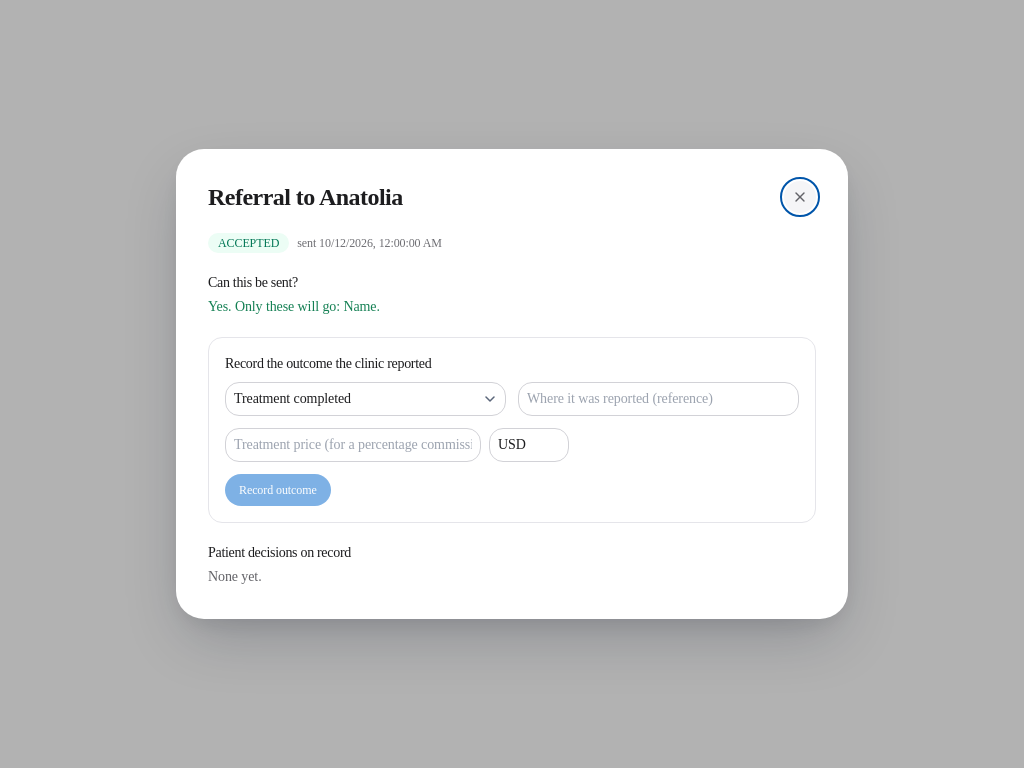
Test: Referral outcome › says what is still needed when a percentage commission has no price yet
Type "Clinic email" into the field named "Where the clinic reported it" at (658, 399), box 518,382 -> 799,416
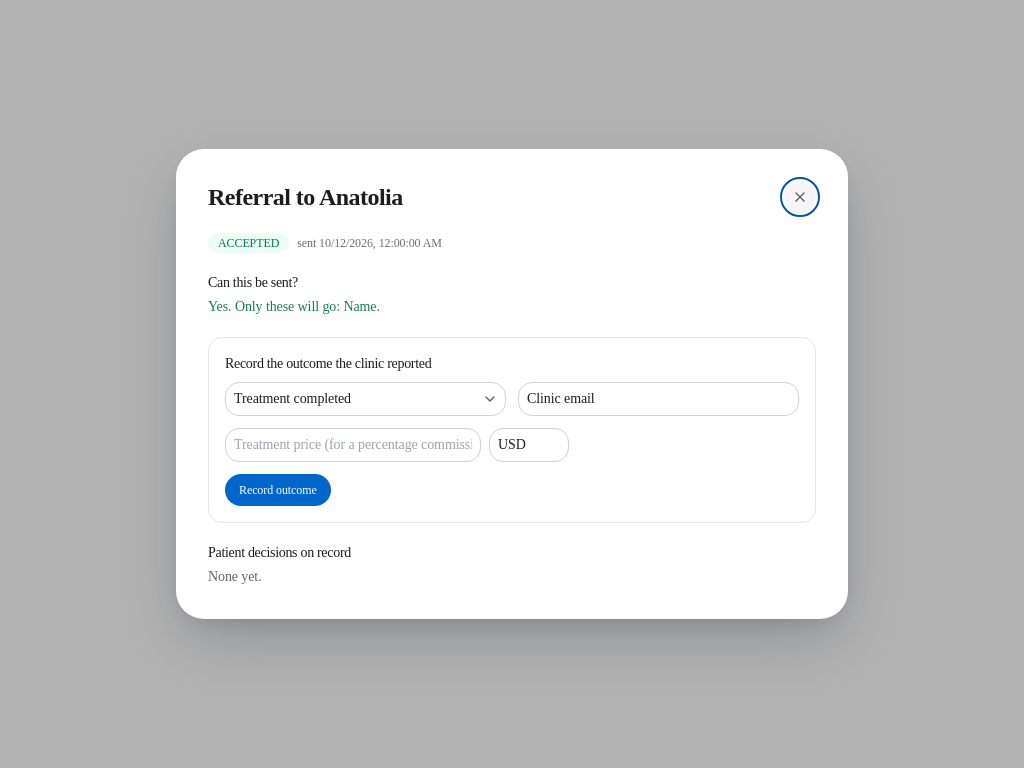
Click the button "Record outcome" at (278, 490), box 225,474 -> 331,506
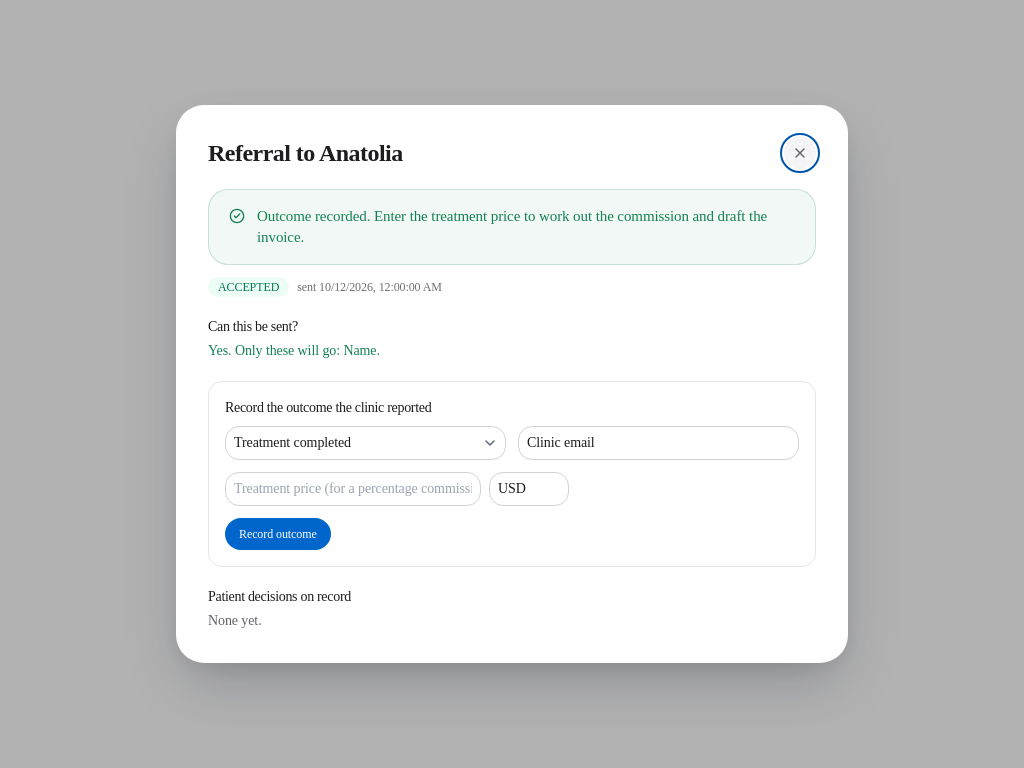
Expected: the text "Enter the treatment price" is shown, 257,208 -> 767,245
